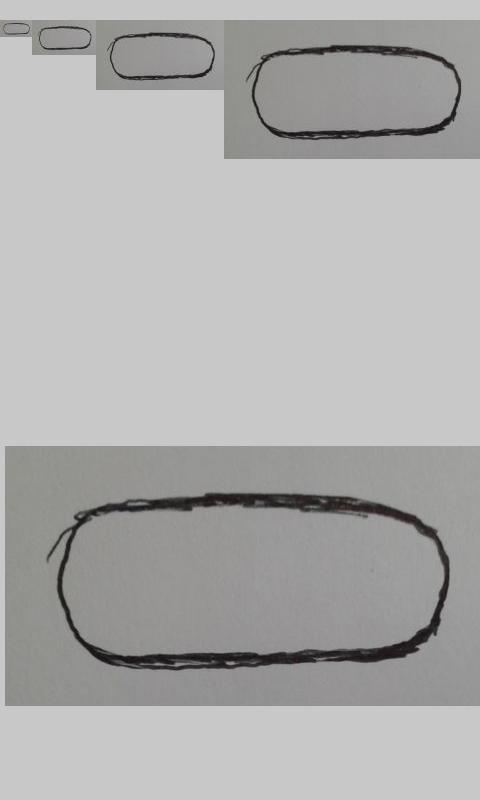chip: (57, 491, 450, 673), (251, 44, 462, 141), (109, 32, 216, 80), (38, 26, 92, 50), (3, 22, 31, 35)
